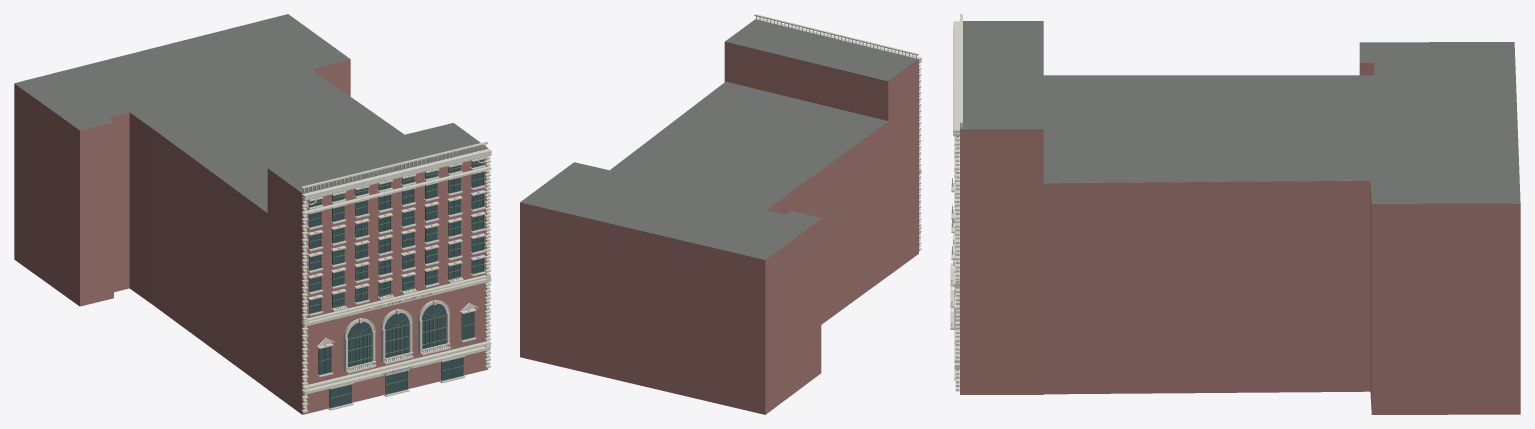
The model's file is orchestra_hall.glb.
3 renders of one model, left to right at view 1: azimuth 30°, elevation 25°; view 2: azimuth 150°, elevation 25°; view 3: azimuth 270°, elevation 25°, orthographic. The views are drawn at different scales.
Parts seen in each view (by area): view 1: Deep pink Georgian brick, Flat dark roof membrane, White limestone dressings, Deep blue green glazing, Patinated bronze windows; view 2: Deep pink Georgian brick, Flat dark roof membrane, White limestone dressings; view 3: Deep pink Georgian brick, Flat dark roof membrane, White limestone dressings.
Boxes of the visible parts, box(x1,y1,x2,y2) form: Deep pink Georgian brick: box(14, 59, 488, 414); Flat dark roof membrane: box(14, 14, 488, 212); White limestone dressings: box(301, 141, 491, 412); Deep blue green glazing: box(310, 159, 483, 407); Patinated bronze windows: box(309, 159, 484, 408); Deep pink Georgian brick: box(520, 42, 918, 414); Flat dark roof membrane: box(520, 19, 918, 259); White limestone dressings: box(754, 14, 921, 250); Deep pink Georgian brick: box(960, 62, 1520, 414); Flat dark roof membrane: box(960, 21, 1520, 203); White limestone dressings: box(950, 14, 962, 391).
Bounding box in the file's own units: 55.13 × 43.23 × 82.01.
